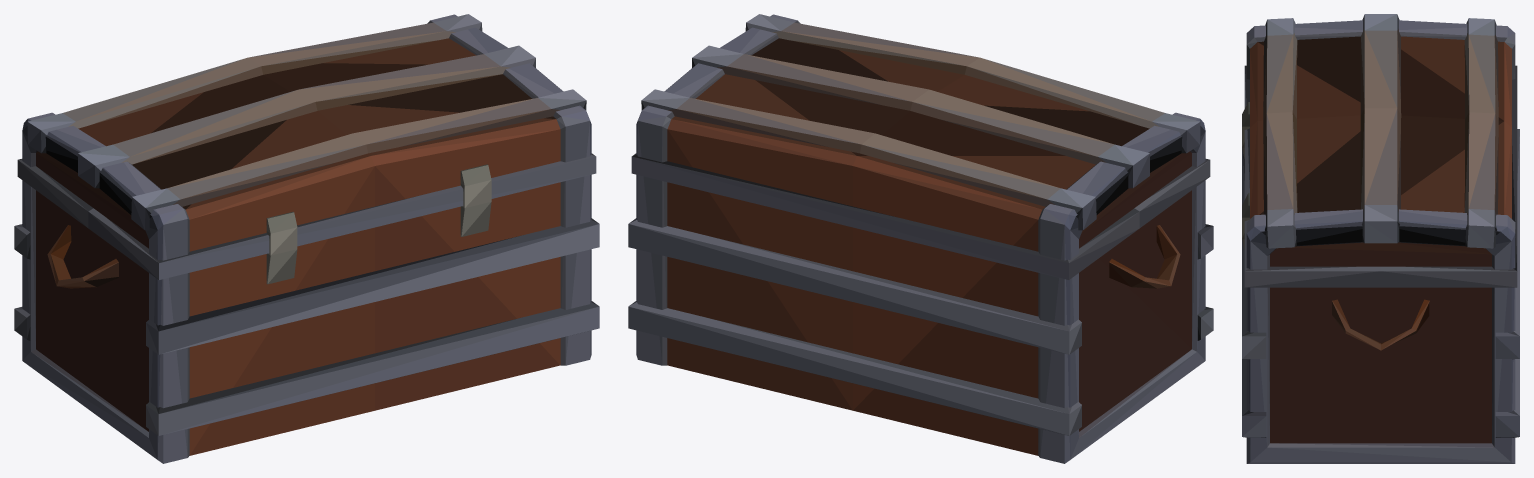
File: prop_container_chest_2.fbx
3 renders of one model, left to right at view 1: azimuth 30°, elevation 25°; view 2: azimuth 150°, elevation 25°; view 3: azimuth 270°, elevation 25°, orthographic. The views are drawn at different scales.
Parts seen in each view (by area): view 1: prop_container_chest_2; view 2: prop_container_chest_2; view 3: prop_container_chest_2.
Part boxes in pixels (left/top/right/bottom): prop_container_chest_2: left=14, top=14, right=599, bottom=463; prop_container_chest_2: left=628, top=14, right=1213, bottom=463; prop_container_chest_2: left=1242, top=14, right=1519, bottom=463.
Bounding box in the file's own units: 2.39 × 1.21 × 1.19.
